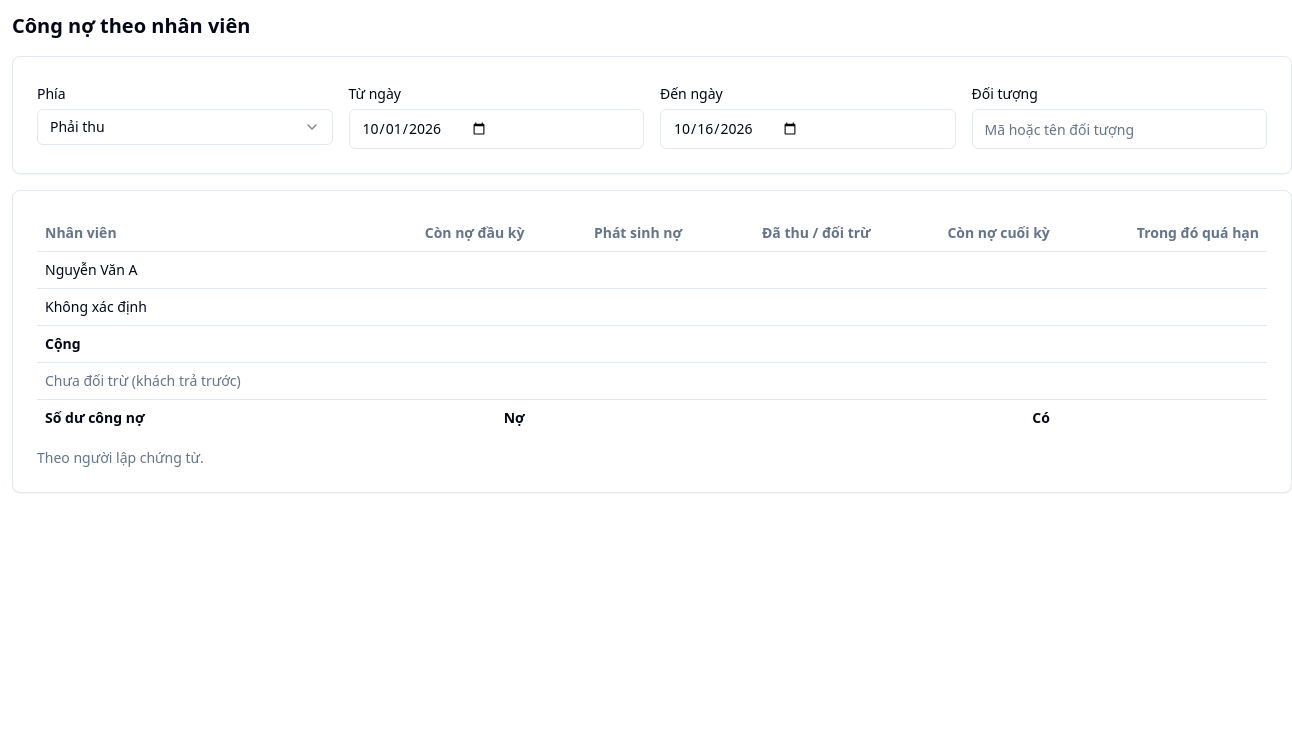
Test case: DebtBySalespersonPage › changing Từ ngày updates the url
This screenshot has width=1292, height=732.
Type "2026-09-01" into the date field labelled "Từ ngày" at (496, 129), box [348, 109, 644, 149]
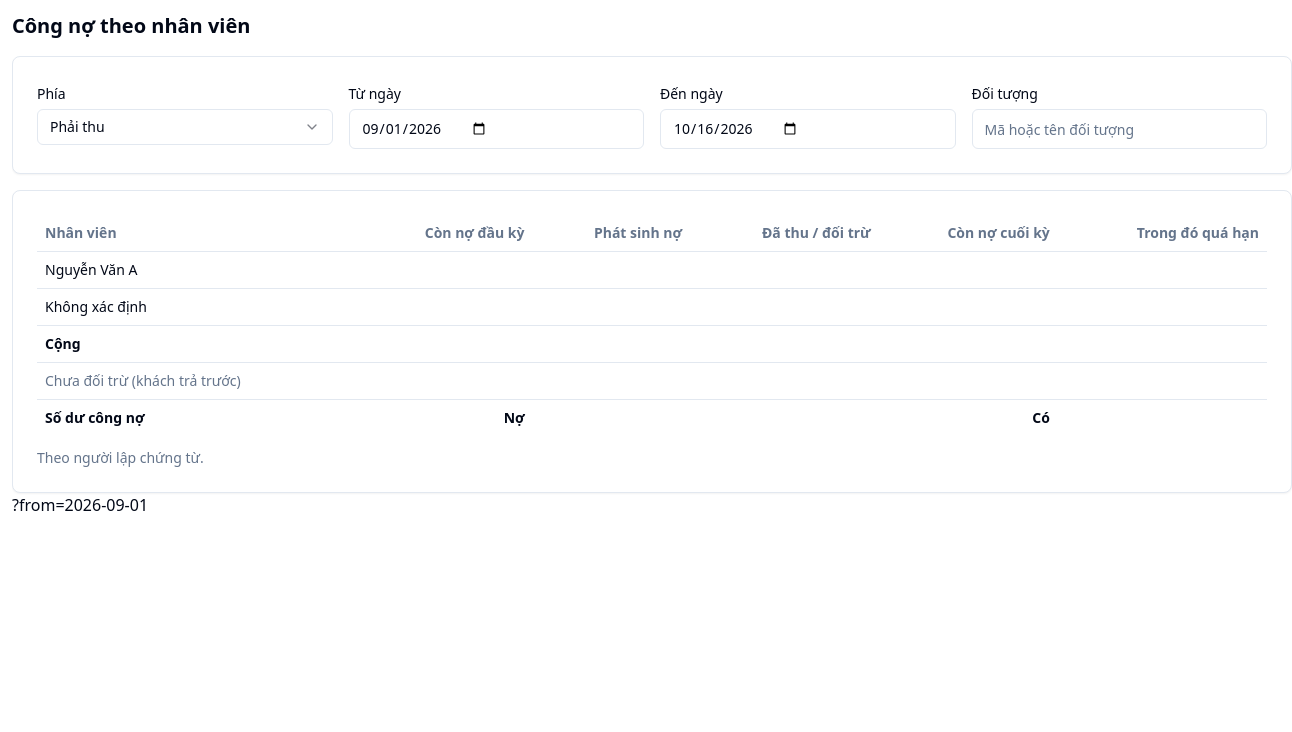
Expected: the text with test id "location" shows "from=2026-09-01", [12, 494, 148, 516]
